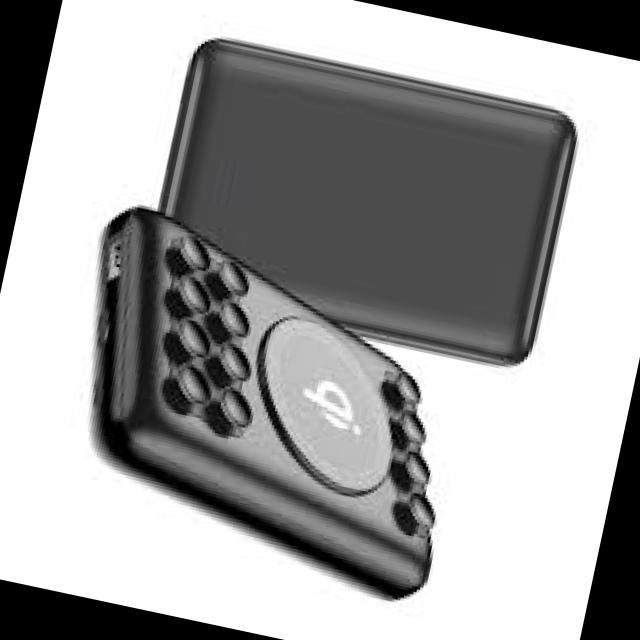portable-charger: (36, 202, 496, 610), (132, 26, 590, 382)
